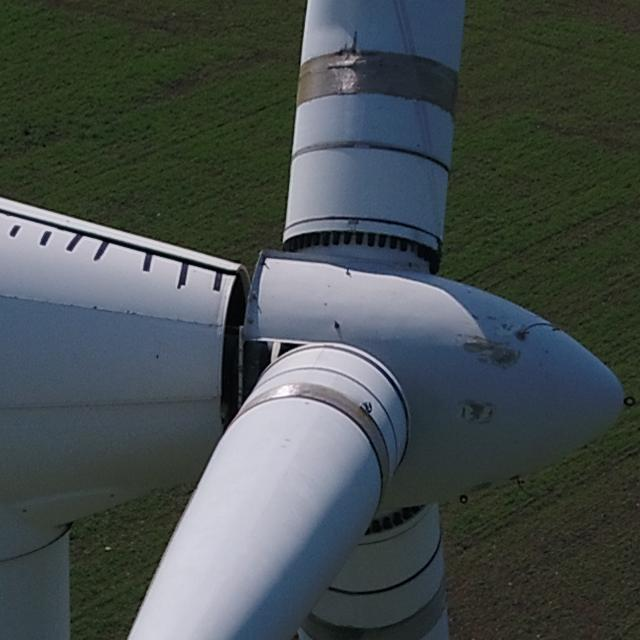damage: (461, 337, 518, 372), (466, 402, 487, 421)
